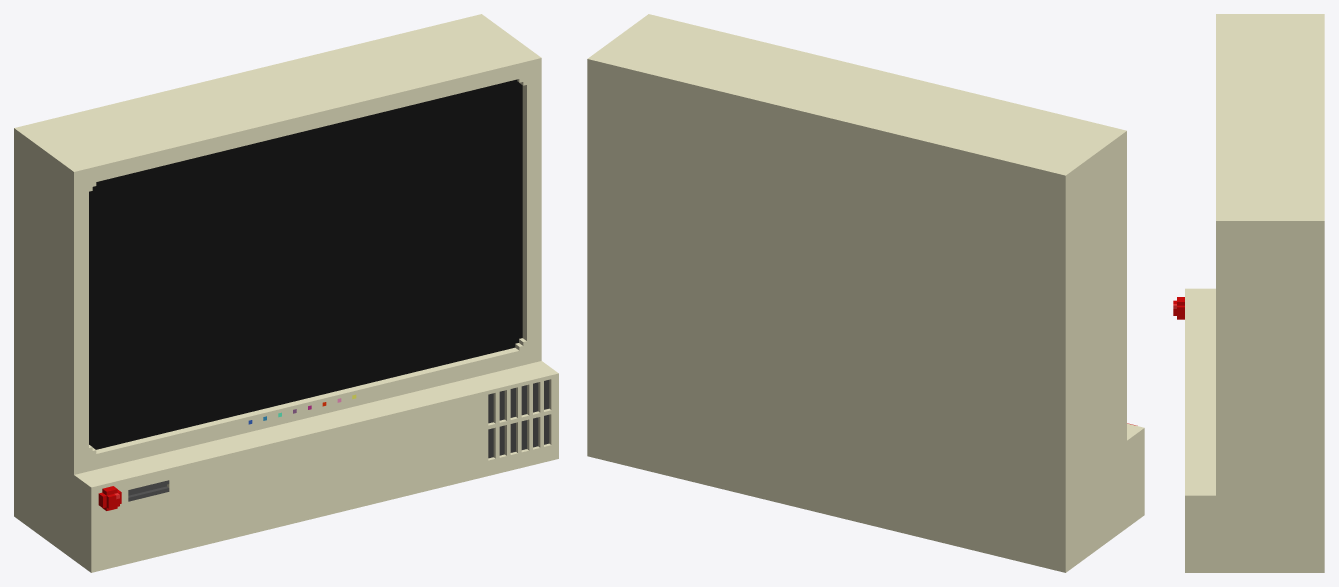
File: computer.obj
3 views of the same model, side by side, from view 1: azimuth 30°, elevation 25°; view 2: azimuth 150°, elevation 25°; view 3: azimuth 270°, elevation 25° (orthographic). The views are drawn at different scales.
Bounding box in the file's own units: 12.6 × 10 × 3.9.
1 material, 1 textured.
